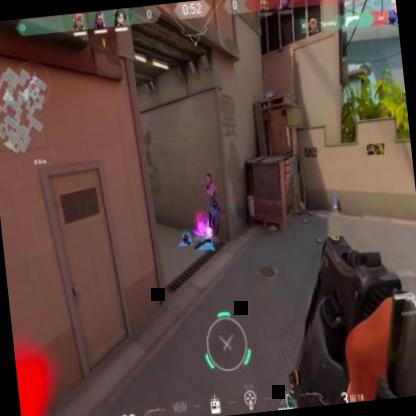enemy: (200, 172, 221, 245)
enemy_head: (206, 171, 212, 184)
